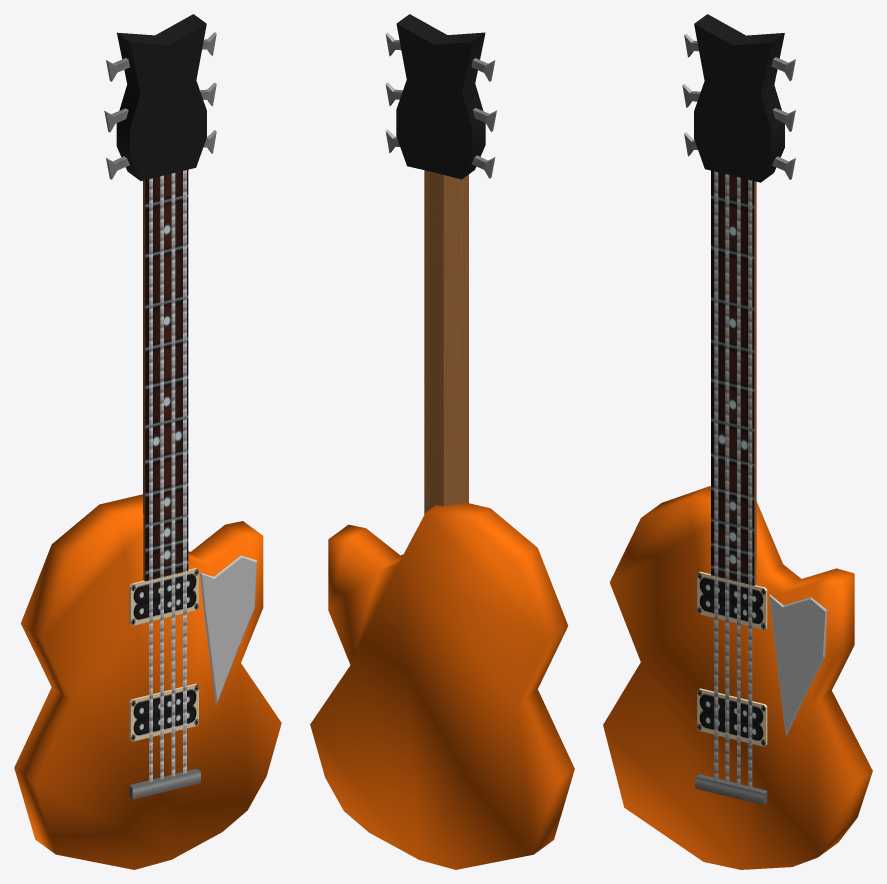
File: Guitar_E.FBX
The picture shows the model from 3 angles, left to right: view 1: azimuth 30°, elevation 25°; view 2: azimuth 150°, elevation 25°; view 3: azimuth 330°, elevation 25°; orthographic projection.
Visible parts, largest first — view 1: Guitar; view 2: Guitar; view 3: Guitar.
Boxes of the visible parts, x1,y1,x2,y2 form: Guitar: (14,14,281,869); Guitar: (310,14,574,869); Guitar: (603,14,872,869).
Bounding box in the file's own units: 64.57 × 208 × 10.83.
